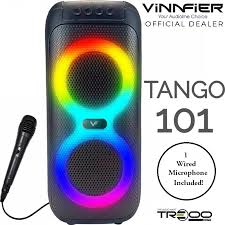microphone: (1, 111, 39, 207)
speaker: (42, 1, 142, 225)
